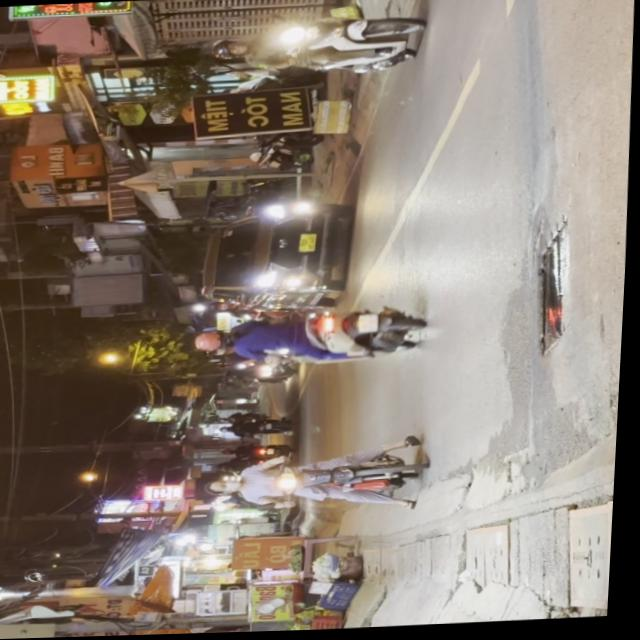helmet: (196, 328, 232, 350), (211, 38, 248, 59)
licenseplate: (207, 440, 433, 516), (206, 9, 428, 82), (193, 303, 430, 370)
motorcyclist: (211, 475, 245, 495)
nohelmet: (359, 315, 380, 333)
